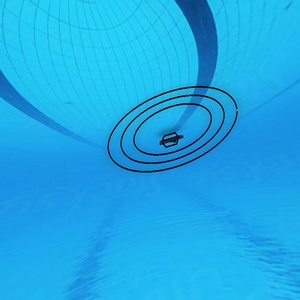circle: (100, 84, 246, 181)
submarine: (160, 130, 185, 153)
